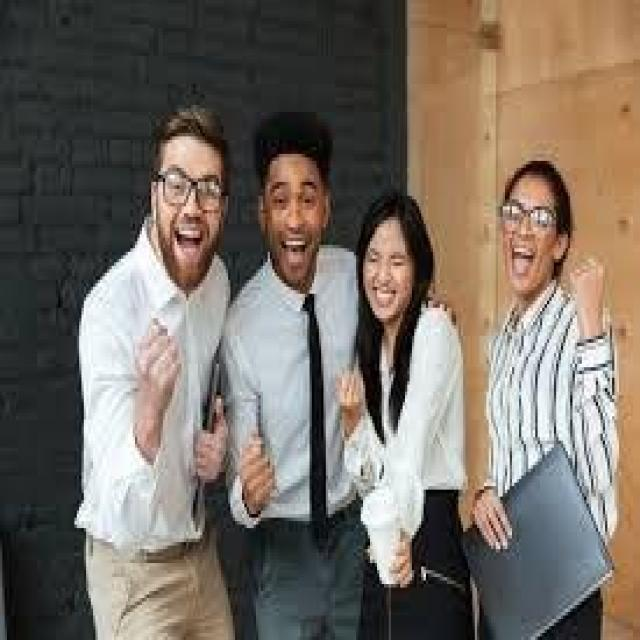person: (65, 98, 240, 633), (223, 84, 384, 633), (456, 122, 628, 630), (337, 175, 475, 636)
